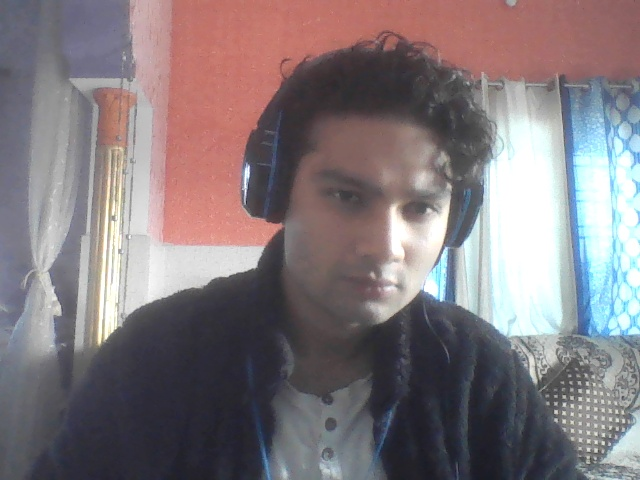real: (253, 40, 472, 351)
